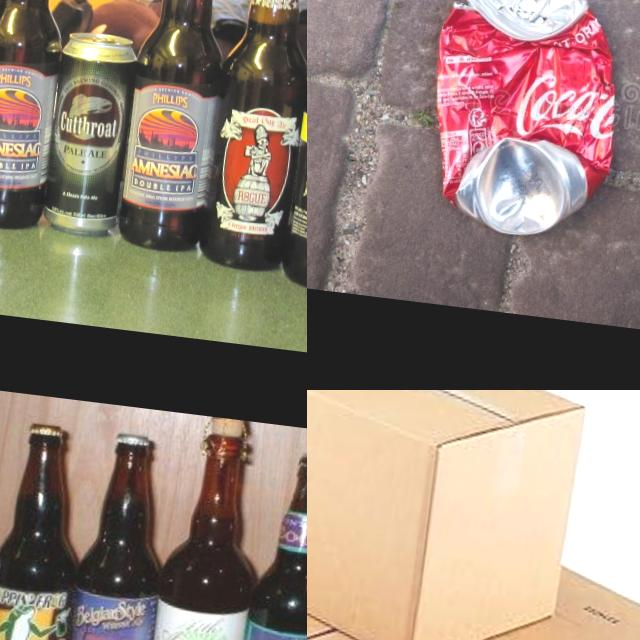aba de lata: (512, 0, 553, 25)
garrafa de vidro: (115, 0, 245, 255), (138, 412, 281, 640), (197, 0, 307, 275), (56, 430, 179, 640), (0, 420, 100, 640), (0, 0, 82, 232), (223, 451, 307, 640), (280, 0, 307, 298)
lata: (416, 0, 631, 245), (44, 28, 142, 235)
papelão: (307, 390, 590, 640), (307, 480, 640, 640)
